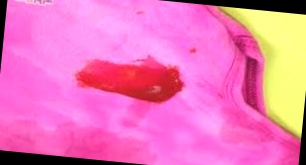lipstick: (69, 49, 189, 108), (135, 10, 147, 18), (187, 48, 197, 57)
